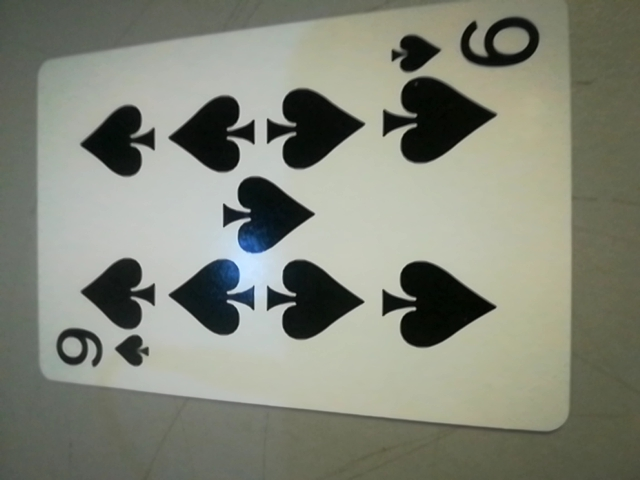ht 9: (386, 8, 557, 81)
